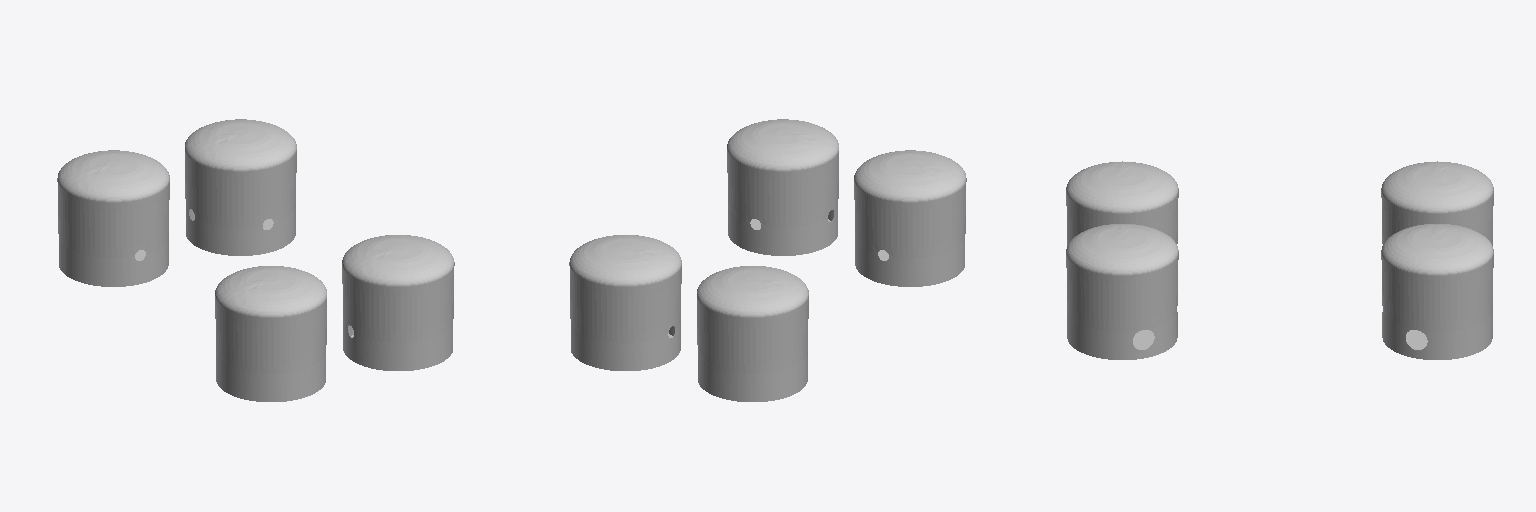
Rendered from pump_station_reservoirs.obj.
The picture shows the model from 3 angles: view 1: azimuth 30°, elevation 25°; view 2: azimuth 150°, elevation 25°; view 3: azimuth 270°, elevation 25°; orthographic projection.
Parts seen in each view (by area): view 1: obj1; view 2: obj1; view 3: obj1.
Boxes of the visible parts, x1=… form: obj1: x1=57, y1=119, x2=454, y2=401; obj1: x1=569, y1=119, x2=966, y2=401; obj1: x1=1066, y1=161, x2=1493, y2=359.
Bounding box in the file's own units: 8.22 × 3.5 × 13.57.